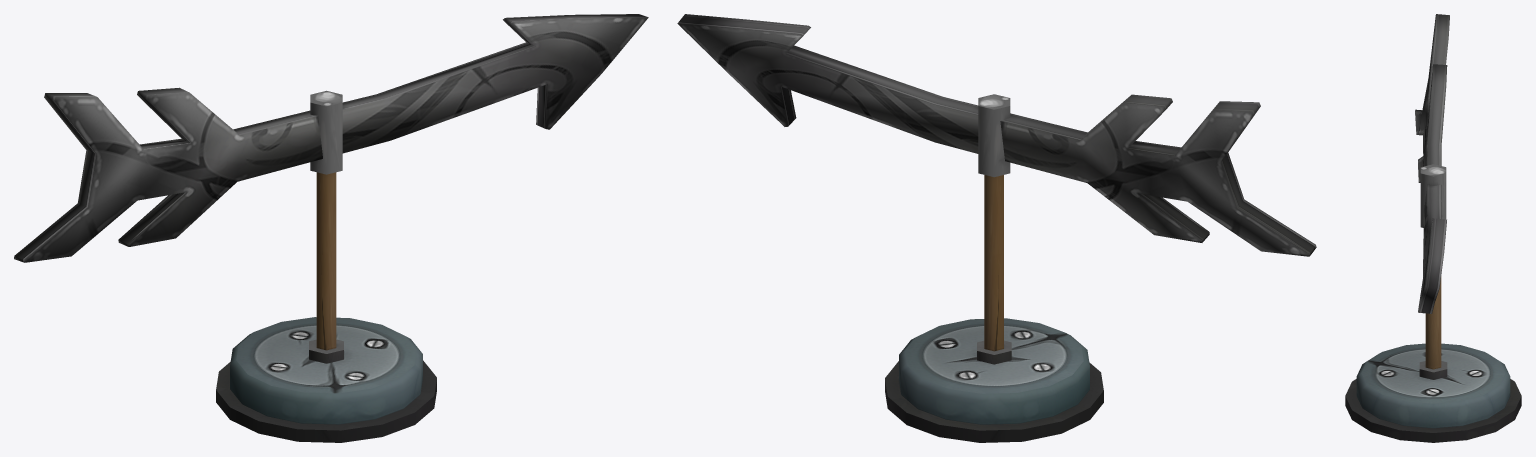
The model's file is prp_veleta_01.FBX.
3 views of the same model, side by side, from view 1: azimuth 30°, elevation 25°; view 2: azimuth 150°, elevation 25°; view 3: azimuth 270°, elevation 25° (orthographic). The views are drawn at different scales.
Visible parts, largest first — view 1: prp_veleta_01, prp_veleta_base_01; view 2: prp_veleta_01, prp_veleta_base_01; view 3: prp_veleta_base_01, prp_veleta_01.
Boxes of the visible parts, x1,y1,x2,y2 form: prp_veleta_01: (14, 14, 648, 262); prp_veleta_base_01: (216, 90, 436, 442); prp_veleta_01: (677, 14, 1316, 256); prp_veleta_base_01: (885, 94, 1103, 442); prp_veleta_base_01: (1345, 164, 1521, 442); prp_veleta_01: (1415, 14, 1449, 313).
Size of the model in its own units: 137 by 75.49 by 41.92.
Materials: 1 (1 with a texture image).
